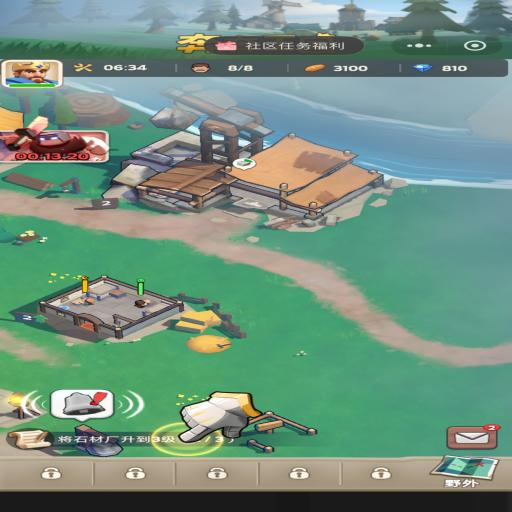newcomer_hand: (176, 392, 257, 442)
